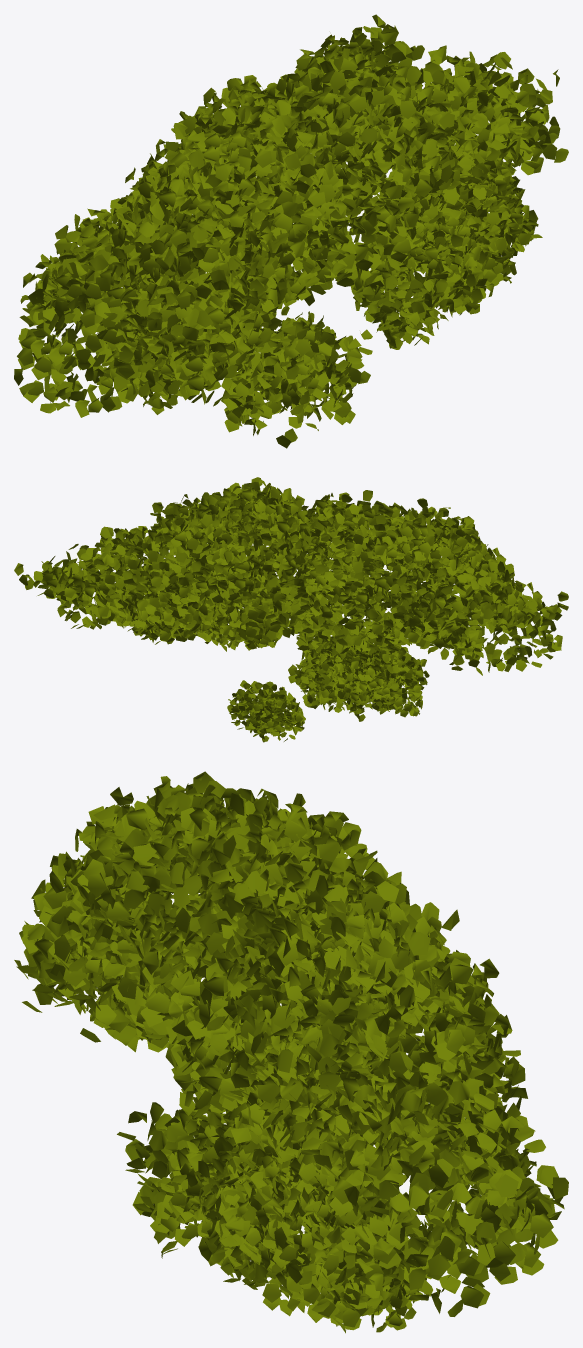
Rendered from CartoonLeafs.fbx.
3 views of the same model, one above another, from view 1: azimuth 30°, elevation 25°; view 2: azimuth 150°, elevation 25°; view 3: azimuth 270°, elevation 25° (orthographic). The views are drawn at different scales.
Visible parts, largest first — view 1: groundCoverBright1Leaf, groundCoverBright2Leaf, groundCoverBright3Leaf, groundCoverBright5Leaf, groundCoverBright13Leaf, groundCoverBright6Leaf, groundCoverBright14Leaf, groundCoverBright4Leaf, groundCoverBright7Leaf, groundCoverBright12Leaf, groundCoverBright8Leaf, groundCoverBright15Leaf; view 2: groundCoverBright2Leaf, groundCoverBright1Leaf, groundCoverBright9Leaf, groundCoverBright3Leaf, groundCoverBright15Leaf, groundCoverBright16Leaf, groundCoverBright8Leaf, groundCoverBright4Leaf, groundCoverBright7Leaf, groundCoverBright10Leaf; view 3: groundCoverBright1Leaf, groundCoverBright2Leaf, groundCoverBright3Leaf, groundCoverBright5Leaf, groundCoverBright4Leaf, groundCoverBright7Leaf, groundCoverBright13Leaf, groundCoverBright15Leaf, groundCoverBright6Leaf.
Part boxes in pixels (x1=…): groundCoverBright1Leaf: x1=74, y1=41, x2=568, y2=406; groundCoverBright2Leaf: x1=18, y1=14, x2=559, y2=417; groundCoverBright3Leaf: x1=14, y1=41, x2=535, y2=402; groundCoverBright5Leaf: x1=384, y1=167, x2=542, y2=309; groundCoverBright13Leaf: x1=257, y1=311, x2=372, y2=424; groundCoverBright6Leaf: x1=354, y1=258, x2=463, y2=349; groundCoverBright14Leaf: x1=221, y1=353, x2=343, y2=448; groundCoverBright4Leaf: x1=349, y1=169, x2=538, y2=305; groundCoverBright7Leaf: x1=368, y1=238, x2=526, y2=331; groundCoverBright12Leaf: x1=230, y1=323, x2=340, y2=435; groundCoverBright8Leaf: x1=130, y1=268, x2=264, y2=408; groundCoverBright15Leaf: x1=236, y1=306, x2=340, y2=399; groundCoverBright2Leaf: x1=14, y1=486, x2=553, y2=675; groundCoverBright1Leaf: x1=42, y1=477, x2=530, y2=655; groundCoverBright9Leaf: x1=299, y1=642, x2=429, y2=721; groundCoverBright3Leaf: x1=83, y1=482, x2=568, y2=659; groundCoverBright15Leaf: x1=227, y1=680, x2=302, y2=737; groundCoverBright16Leaf: x1=238, y1=689, x2=305, y2=742; groundCoverBright8Leaf: x1=302, y1=636, x2=426, y2=701; groundCoverBright4Leaf: x1=130, y1=557, x2=265, y2=644; groundCoverBright7Leaf: x1=124, y1=614, x2=268, y2=651; groundCoverBright10Leaf: x1=350, y1=676, x2=422, y2=717; groundCoverBright1Leaf: x1=14, y1=787, x2=529, y2=1316; groundCoverBright2Leaf: x1=77, y1=781, x2=568, y2=1287; groundCoverBright3Leaf: x1=86, y1=771, x2=461, y2=1249; groundCoverBright5Leaf: x1=160, y1=1110, x2=337, y2=1272; groundCoverBright4Leaf: x1=177, y1=1111, x2=401, y2=1300; groundCoverBright7Leaf: x1=204, y1=1213, x2=382, y2=1333; groundCoverBright13Leaf: x1=117, y1=1102, x2=244, y2=1277; groundCoverBright15Leaf: x1=329, y1=1260, x2=416, y2=1332; groundCoverBright6Leaf: x1=157, y1=1152, x2=245, y2=1266.
Bounding box in the file's own units: 13.76 × 6.89 × 7.41.
